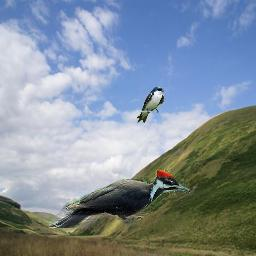Swallow: (136, 86, 164, 123)
Woodpecker: (49, 169, 190, 228)
